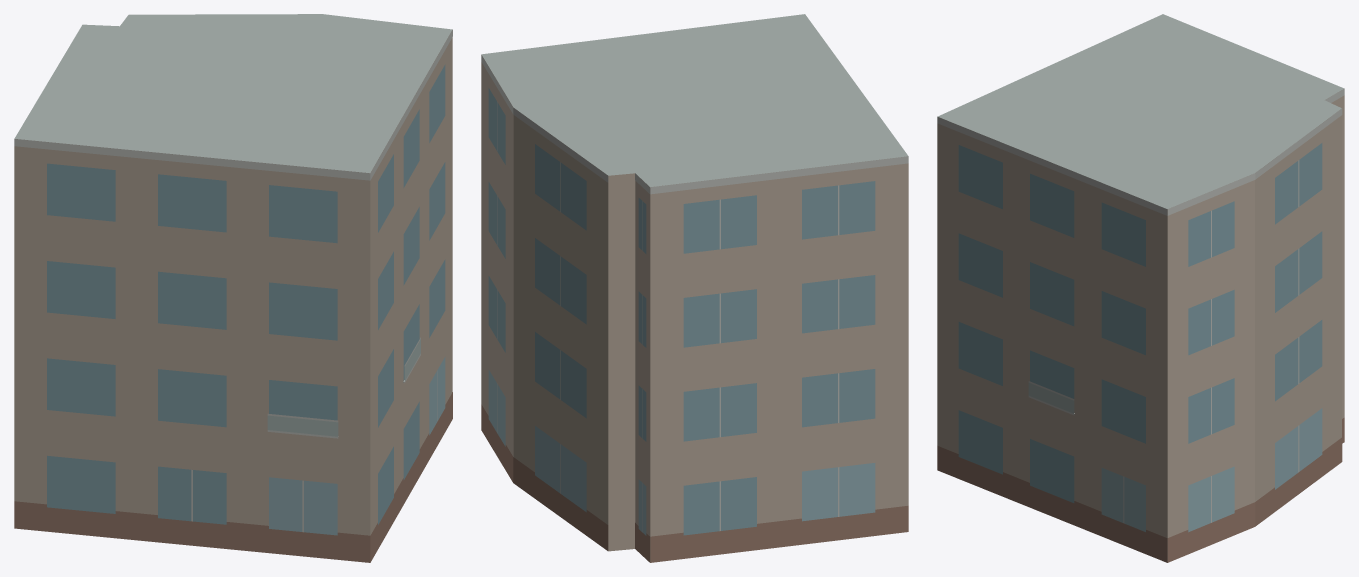
The model's file is survey-upis-32526015.glb.
The picture shows the model from 3 angles, left to right: view 1: azimuth 30°, elevation 25°; view 2: azimuth 150°, elevation 25°; view 3: azimuth 270°, elevation 25°; orthographic projection. The views are drawn at different scales.
Visible parts, largest first — view 1: survey-upis-32526015.tmp; view 2: survey-upis-32526015.tmp; view 3: survey-upis-32526015.tmp.
Boxes of the visible parts, bbox=[...] form: survey-upis-32526015.tmp: bbox=[14, 14, 452, 562]; survey-upis-32526015.tmp: bbox=[481, 14, 908, 562]; survey-upis-32526015.tmp: bbox=[937, 14, 1344, 562].
Bounding box in the file's own units: 15.16 × 12.8 × 13.36.
